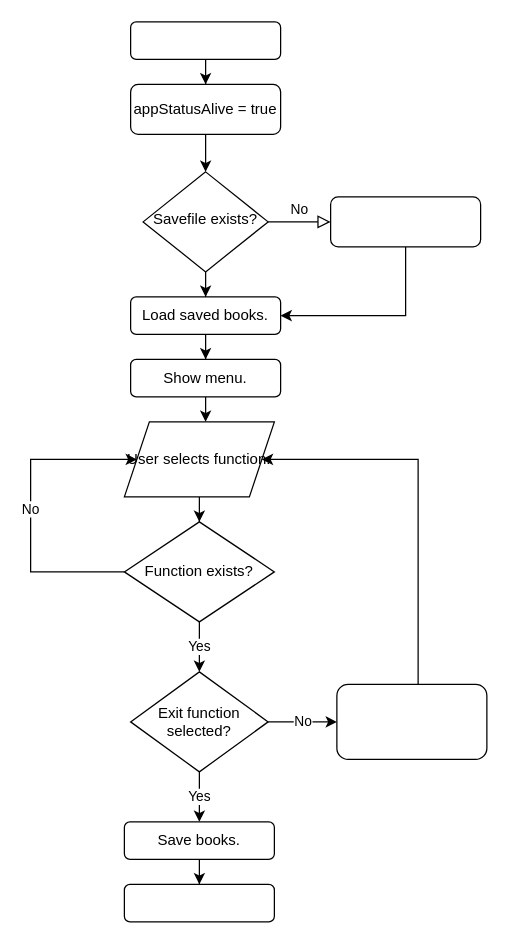
Image size: 509x944. Some labels were removed from this diagram. Each missing label, with the centre of its shape:
"Create savefile" belongs at (405,221).
"Exit" belongs at (198,902).
"Selected function gets ran." belongs at (411,721).
"Start" belongs at (205,40).
